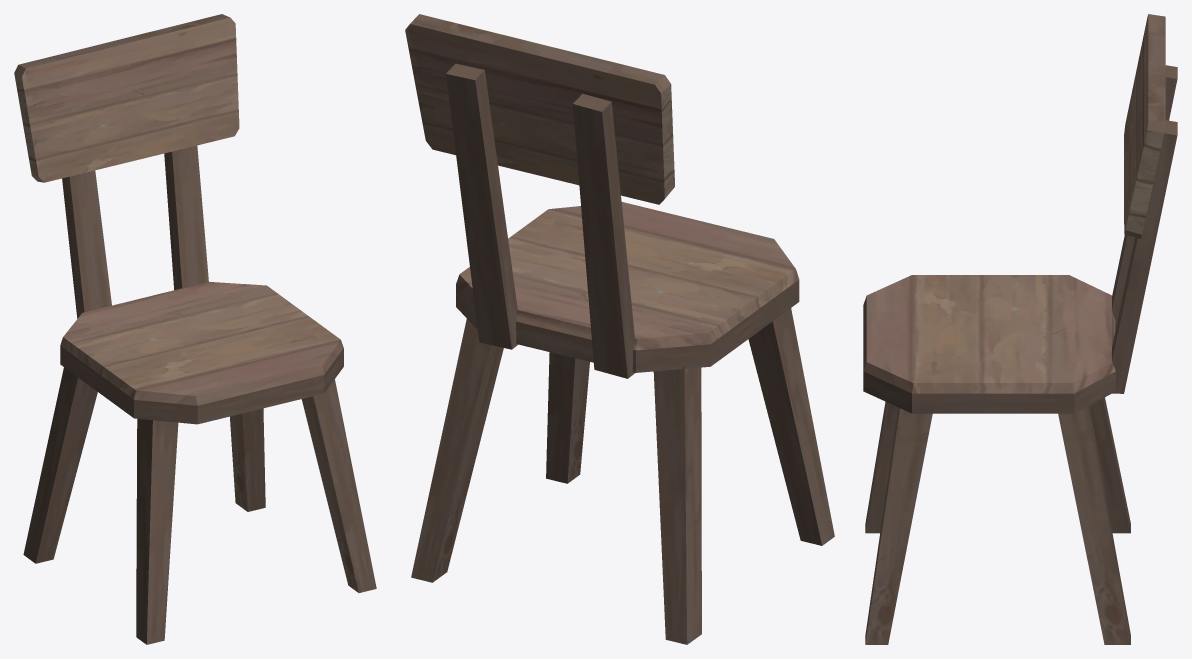
The model's file is Homeworld_Interior_Md_Chair_Chair_20_Vo.fbx.
3 views of the same model, side by side, from view 1: azimuth 30°, elevation 25°; view 2: azimuth 150°, elevation 25°; view 3: azimuth 270°, elevation 25° (orthographic). The views are drawn at different scales.
Parts seen in each view (by area): view 1: Area_MdProps_Chair_A_01_Vo; view 2: Area_MdProps_Chair_A_01_Vo; view 3: Area_MdProps_Chair_A_01_Vo.
Part boxes in pixels (x1,y1,x2,y2): Area_MdProps_Chair_A_01_Vo: (14,14,376,644); Area_MdProps_Chair_A_01_Vo: (405,14,834,644); Area_MdProps_Chair_A_01_Vo: (863,14,1177,644).
Bounding box in the file's own units: 0.5402 × 1.07 × 0.5919.
